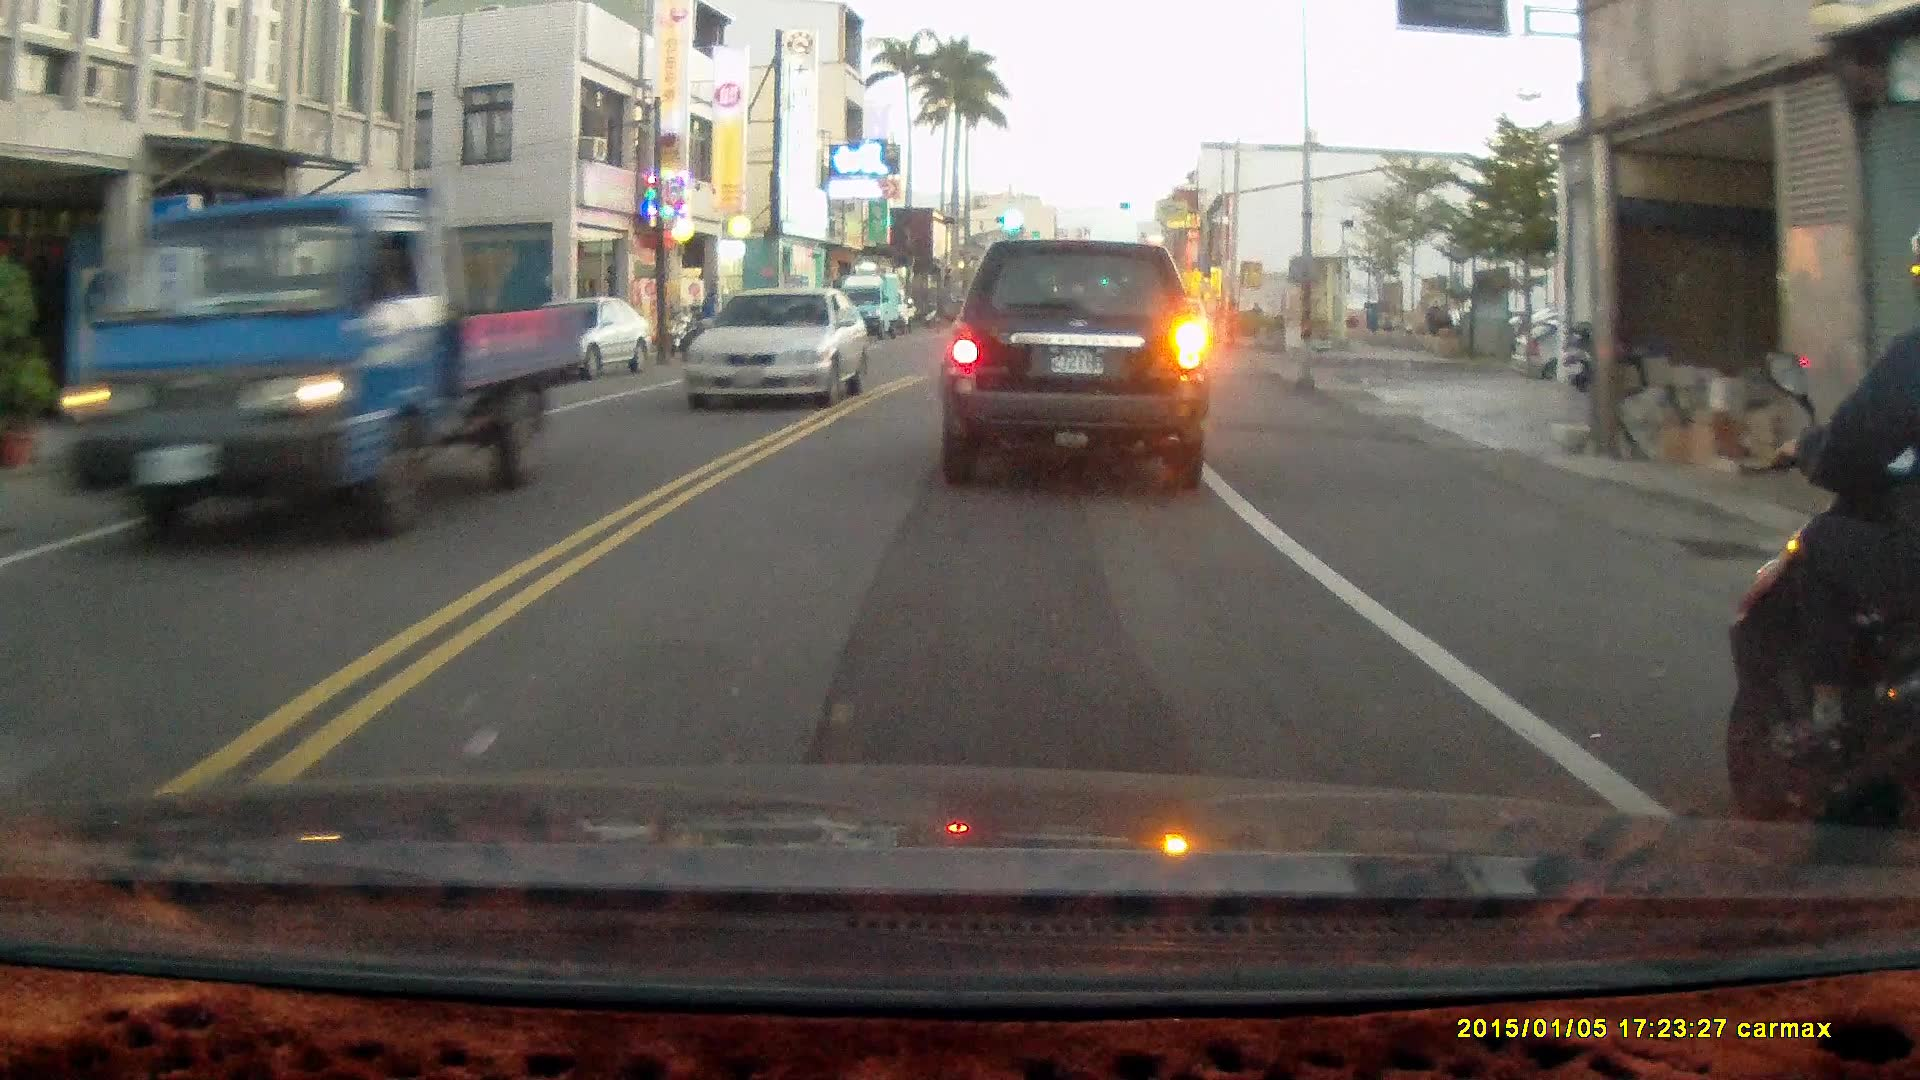pedestrian: (698, 285, 720, 341)
rider: (1729, 232, 1920, 906)
vehicle: (55, 185, 575, 546), (936, 240, 1208, 491), (685, 285, 871, 413), (1506, 313, 1698, 393), (505, 294, 658, 386), (830, 269, 914, 340)
